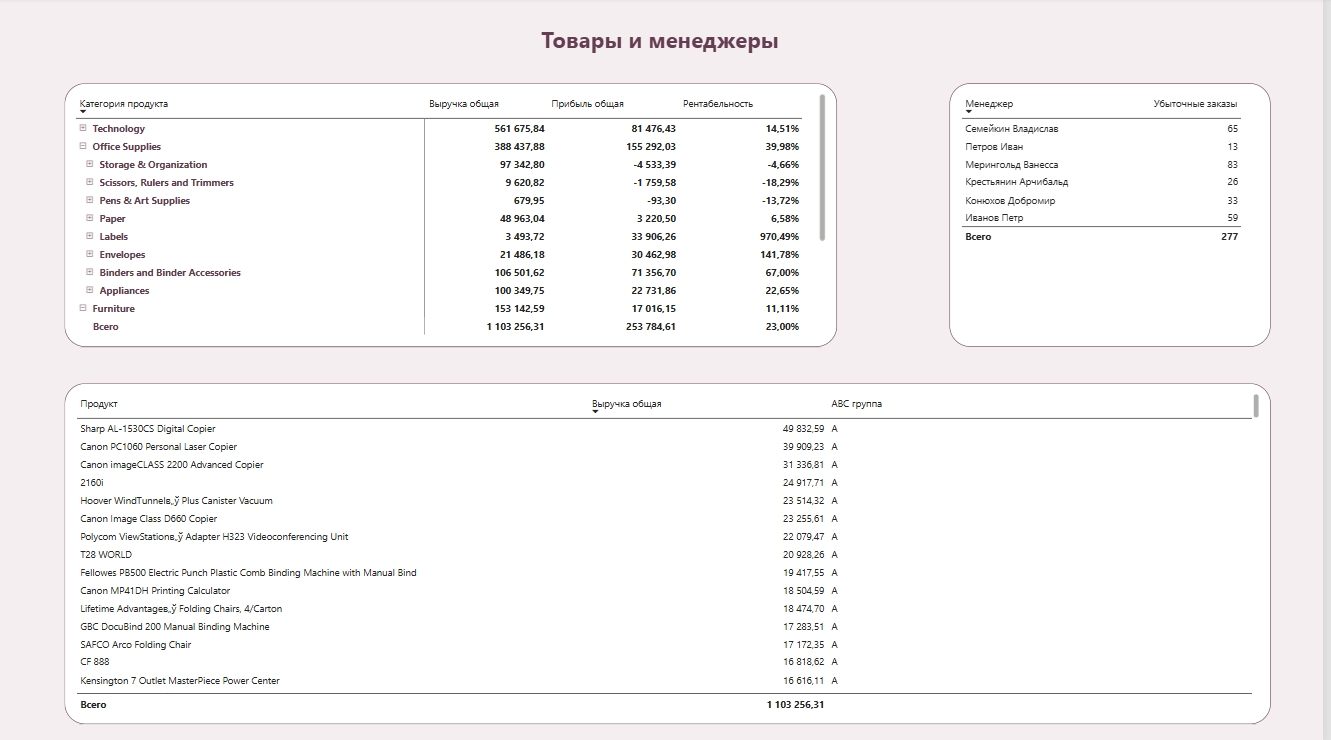

This screenshot's page, from the dashboard's own definition file:
{"tool":"powerbi","page":{"name":"Товары и менеджеры","canvas":[1920,1080],"ordinal":1},"visuals":[{"type":"pivotTable","fields":{"Rows":["СПР_продукты.Категория продукта","СПР_продукты.Подкатегория продукта","СПР_продукты.Продукт"],"Values":["Продажи.Выручка общая","Продажи.Прибыль общая","Продажи.Рентабельность"]},"box":[97.7,125.6,1118.6,381.4],"z":3000},{"type":"tableEx","fields":{"Values":["СПР_Менеджеры.Менеджер","Продажи.Убыточные заказы"]},"box":[1379.1,125.6,465.1,381.4],"z":4000},{"type":"tableEx","fields":{"Values":["СПР_продукты.Продукт","Продажи.Выручка общая","Продажи.ABC группа"]},"box":[97.8,560,1746.7,493.3],"z":5000},{"type":"textbox","box":[0,40,1920,86.7],"z":5001}]}

Visuals, with their boxes in screenshot pixels (x1, y1, x2, y2), scaled from the page's 1920x1080 canvas onto the 1331x740 screenshot:
pivotTable - СПР_продукты.Категория продукта x СПР_продукты.Подкатегория продукта: (68, 86, 843, 347)
tableEx - СПР_Менеджеры.Менеджер x Продажи.Убыточные заказы: (956, 86, 1278, 347)
tableEx - СПР_продукты.Продукт x Продажи.Выручка общая: (68, 384, 1279, 722)
textbox: (0, 27, 1330, 87)
